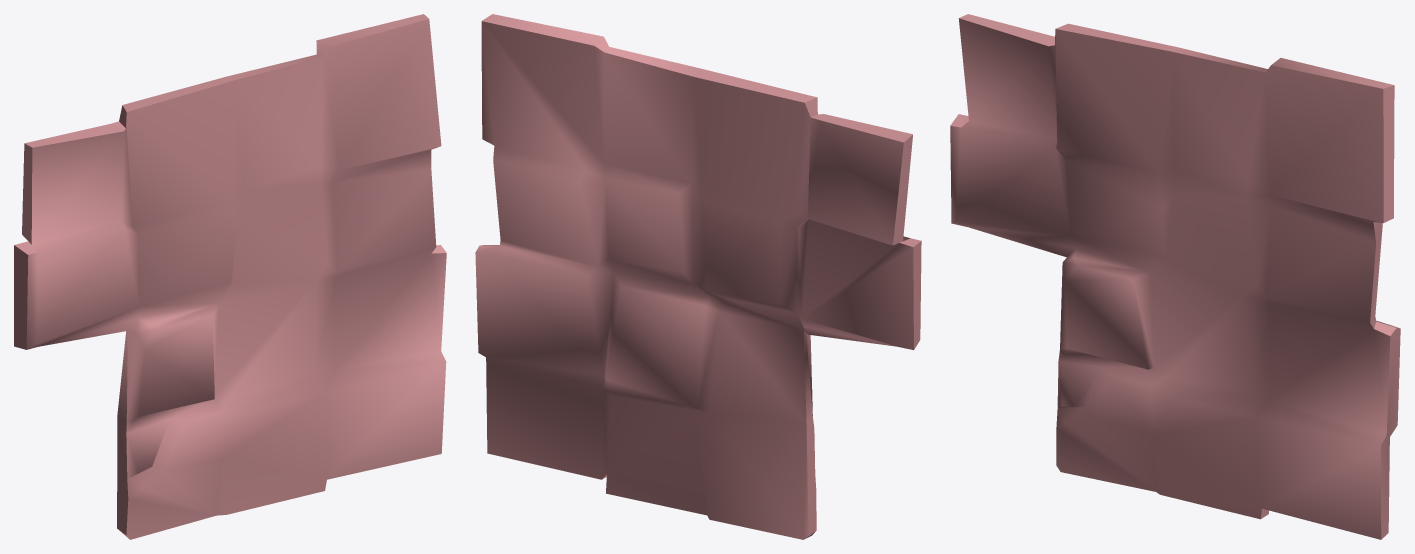
The model's file is Stone_Brick_002_b.FBX.
The picture shows the model from 3 angles, left to right: view 1: azimuth 30°, elevation 25°; view 2: azimuth 150°, elevation 25°; view 3: azimuth 330°, elevation 25°; orthographic projection. The views are drawn at different scales.
Visible parts, largest first — view 1: Stone_Brick_002_b_LOD0; view 2: Stone_Brick_002_b_LOD0; view 3: Stone_Brick_002_b_LOD0.
Boxes of the visible parts, box(x1,y1,x2,y2) form: Stone_Brick_002_b_LOD0: box(14, 14, 446, 539); Stone_Brick_002_b_LOD0: box(475, 14, 921, 539); Stone_Brick_002_b_LOD0: box(950, 14, 1400, 539).
Size of the model in its own units: 271 by 23.83 by 268.
